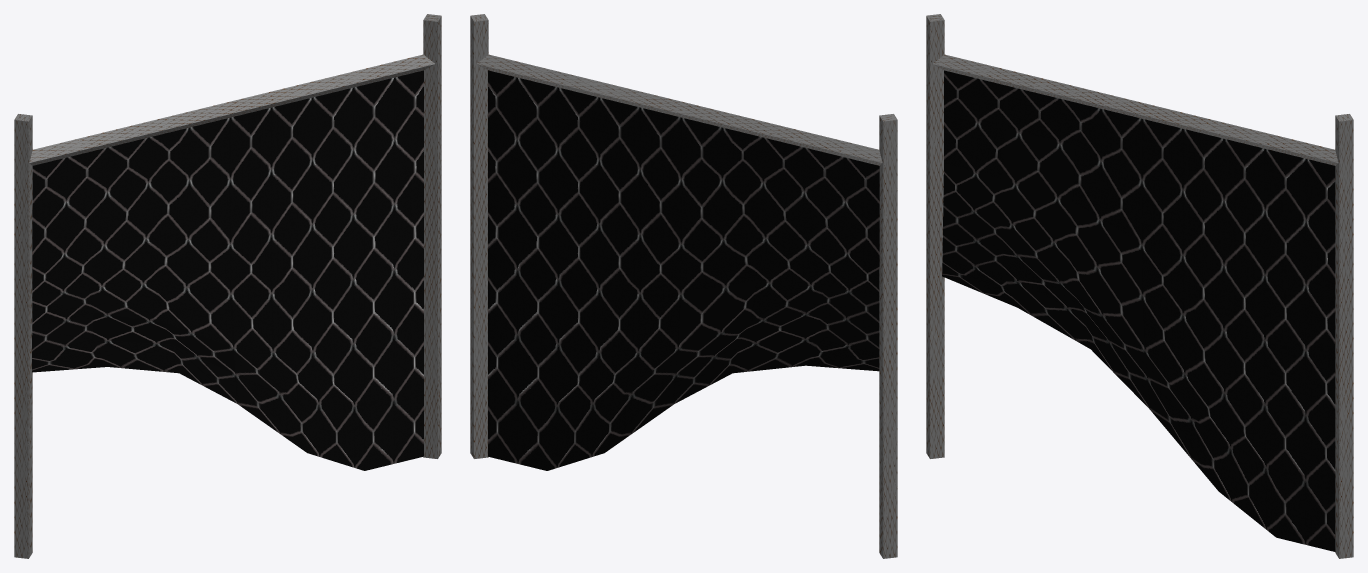
File: Grade3.fbx
3 renders of one model, left to right at view 1: azimuth 30°, elevation 25°; view 2: azimuth 150°, elevation 25°; view 3: azimuth 330°, elevation 25°, orthographic.
Parts seen in each view (by area): view 1: Cerca/A; view 2: Cerca/A; view 3: Cerca/A.
Part boxes in pixels (x1,y1,x2,y2): Cerca/A: (14, 14, 441, 558); Cerca/A: (470, 14, 897, 558); Cerca/A: (926, 14, 1353, 558).
Size of the model in its own units: 217 by 212 by 9.34.
